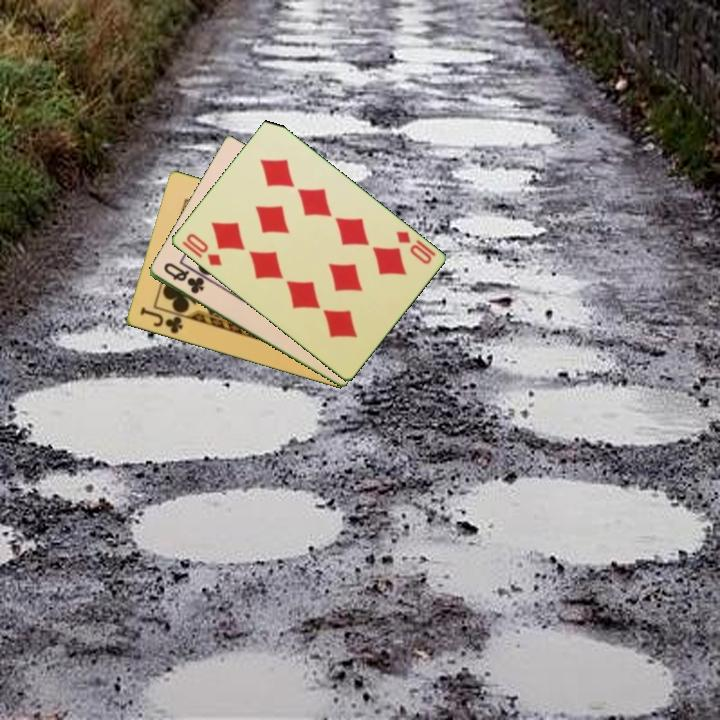10d: (392, 227, 438, 267), (178, 230, 225, 269)
Jc: (136, 303, 186, 337)
Qc: (160, 259, 207, 297)
